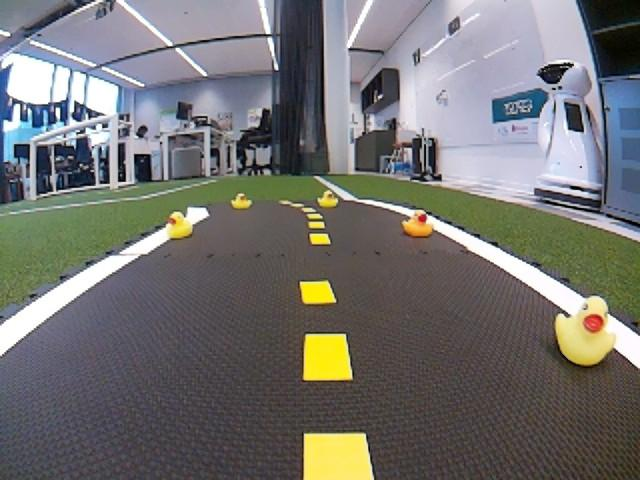Duckies: (556, 296, 615, 366), (403, 210, 435, 237), (165, 211, 196, 238), (230, 192, 254, 210), (319, 190, 339, 207)
